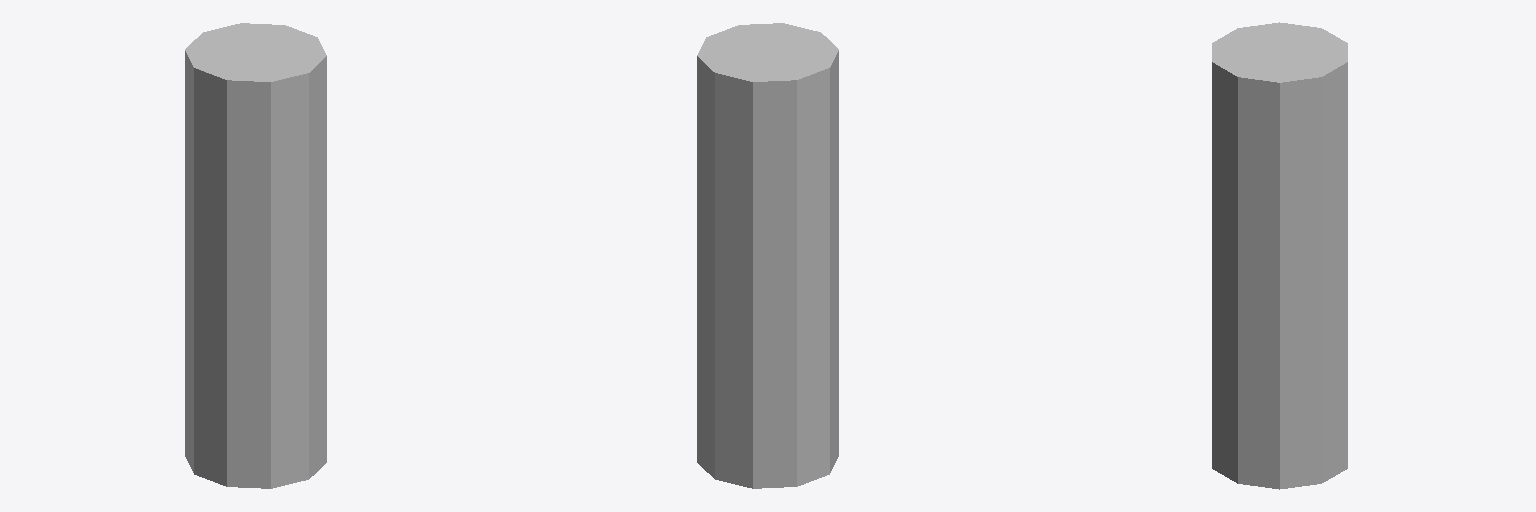
The model's file is paw.obj.
3 views of the same model, side by side, from view 1: azimuth 30°, elevation 25°; view 2: azimuth 150°, elevation 25°; view 3: azimuth 270°, elevation 25° (orthographic).
Parts seen in each view (by area): view 1: Sphere_pot_collider Mesh, Cross_pot_collider Mesh, Cylinder_pot_collider Mesh; view 2: Sphere_pot_collider Mesh, Cylinder_pot_collider Mesh, Cross_pot_collider Mesh; view 3: Sphere_pot_collider Mesh, Cylinder_pot_collider Mesh, Cross_pot_collider Mesh.
Boxes of the visible parts, <box> form: Sphere_pot_collider Mesh: <box>185,23,326,488</box>; Cross_pot_collider Mesh: <box>197,33,314,75</box>; Cylinder_pot_collider Mesh: <box>199,25,325,81</box>; Sphere_pot_collider Mesh: <box>697,23,838,488</box>; Cylinder_pot_collider Mesh: <box>698,24,826,81</box>; Cross_pot_collider Mesh: <box>727,29,826,77</box>; Sphere_pot_collider Mesh: <box>1212,22,1347,489</box>; Cylinder_pot_collider Mesh: <box>1213,25,1346,81</box>; Cross_pot_collider Mesh: <box>1223,29,1336,66</box>.
Size of the model in its own units: 32 by 100 by 30.47.